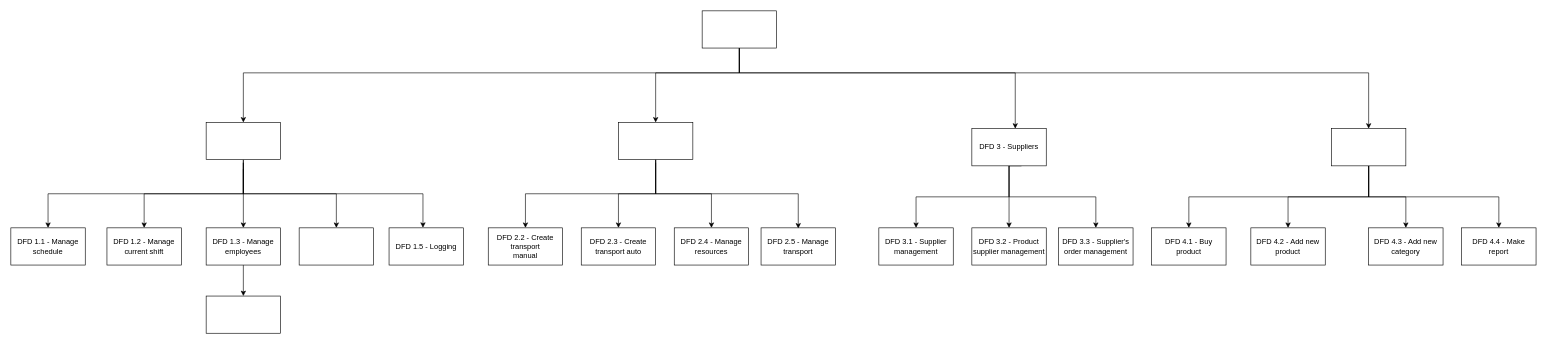
Image size: 1547x344. Some labels were removed from this diagram. The box of each missing label's shape, as (x1, y1, x2, y2) in pixels:
DFD 0 - Main: (702, 10, 777, 48)
DFD 1 - Employees: (206, 122, 281, 160)
DFD 1.3.4 - Manage employee details: (206, 295, 281, 333)
DFD 1.4 - Create shift: (299, 227, 374, 265)
DFD 2 - Transport: (618, 122, 693, 160)
DFD 4 - Storage: (1331, 128, 1406, 166)
